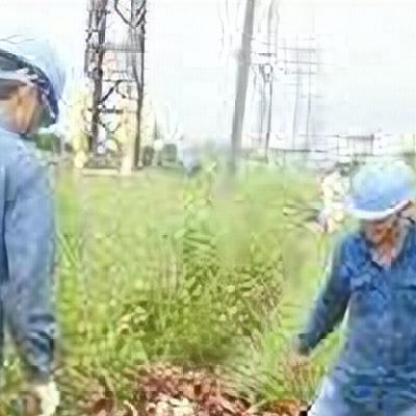hardHat: (0, 25, 74, 143), (1, 0, 2, 1)
